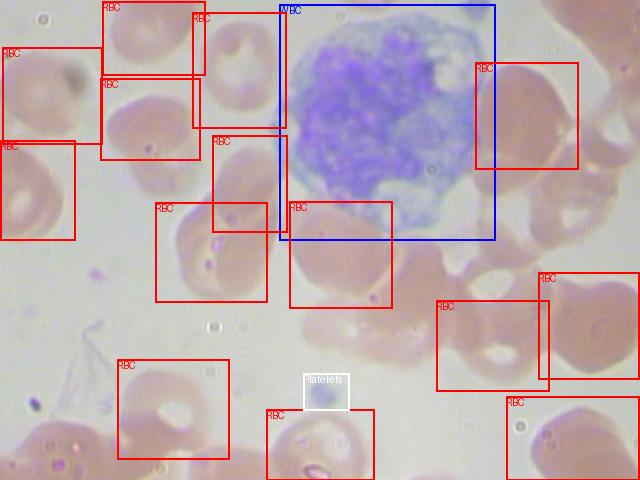Platelets: (303, 373, 349, 410)
RBC: (117, 359, 229, 459), (155, 202, 267, 302), (506, 396, 639, 480), (475, 62, 578, 169), (289, 201, 392, 308), (192, 12, 286, 128), (538, 272, 639, 379), (436, 300, 549, 391), (2, 47, 102, 144), (100, 78, 200, 160), (266, 409, 374, 480), (102, 1, 205, 75), (0, 140, 75, 240), (212, 135, 287, 232)
WBC: (279, 4, 495, 240)
